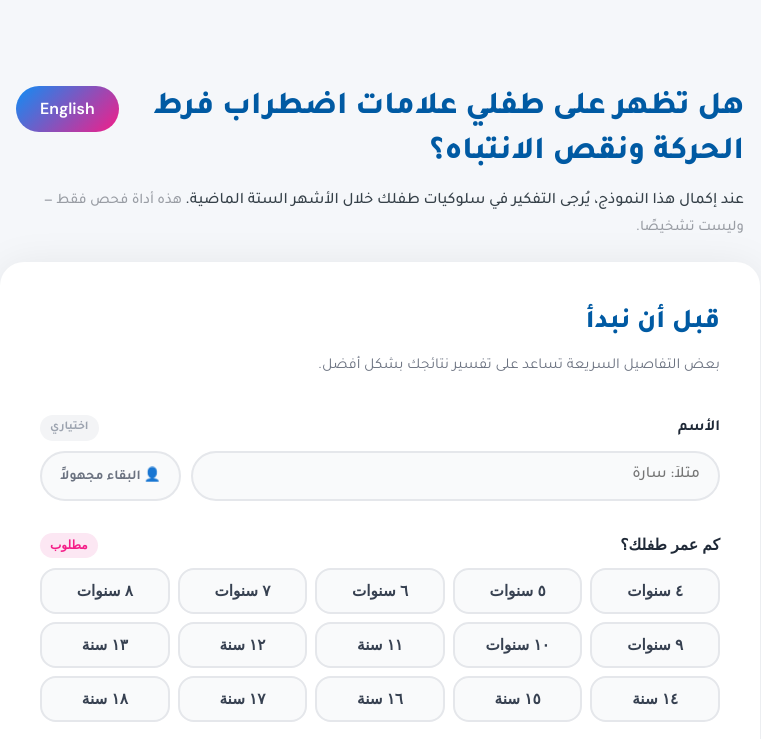
Test: Arabicquiz — Intake screen › Start button enables when age, gender and suspect are all filled
Click the button "٨ سنوات" at (105, 591), box [40,568,170,614]
(page scrolled)
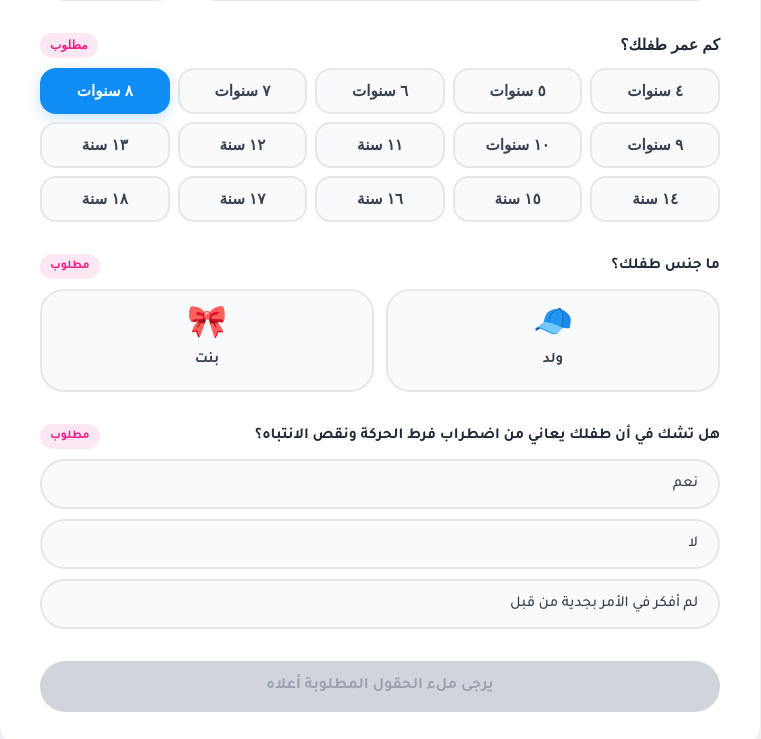
Click the text "ولد" at (553, 360), box [543,351,563,370]
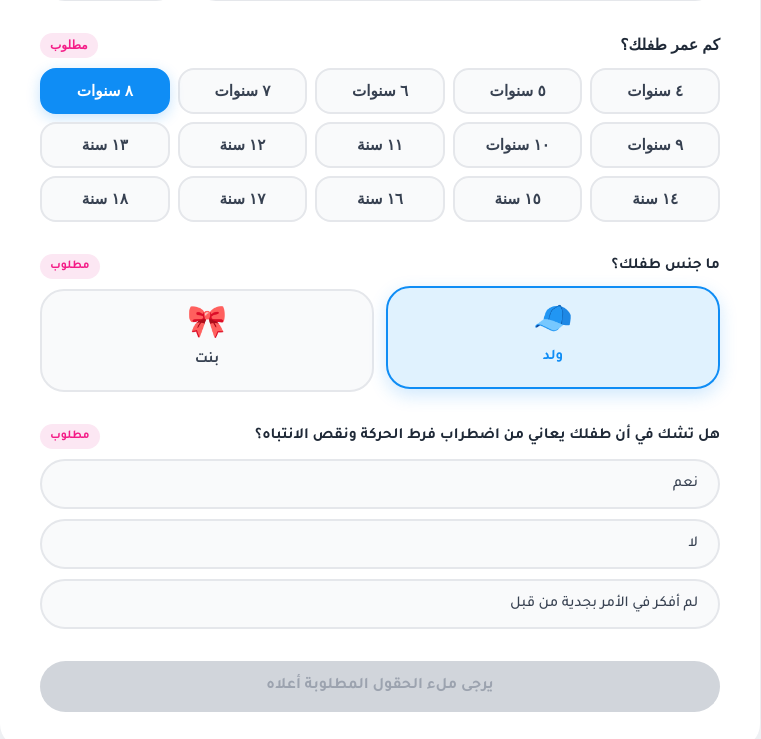
Click the button "نعم" at (685, 484), box [40,459,720,509]
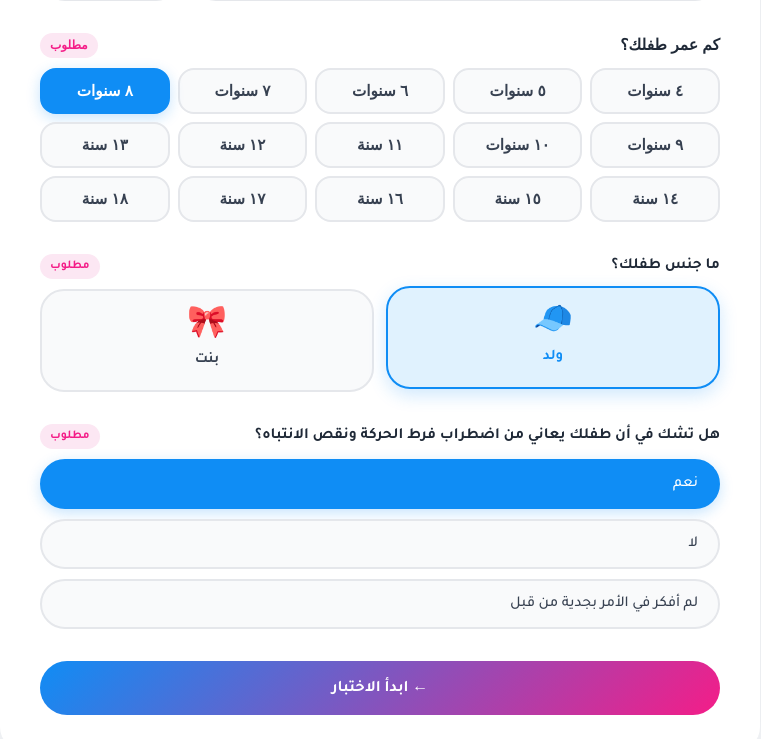
expect the button "← ابدأ الاختبار" is enabled: met, box [40,661,720,715]
